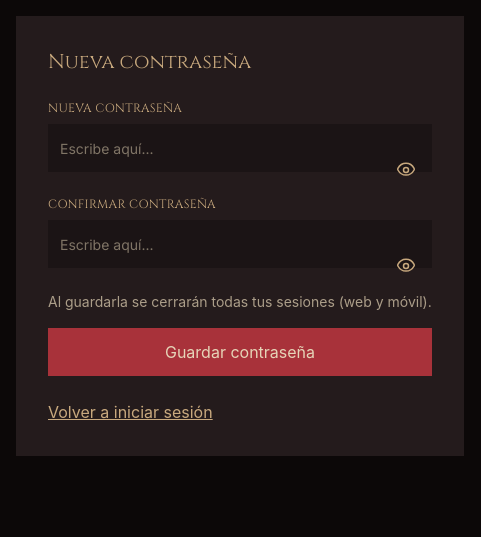
Test: reset password page › reports other failures and connection problems
Later steps or results of the test are not shown.
Type "Nueva#2026" into the password field labelled "Nueva contraseña" at point(240, 148), box [48,124,432,172]
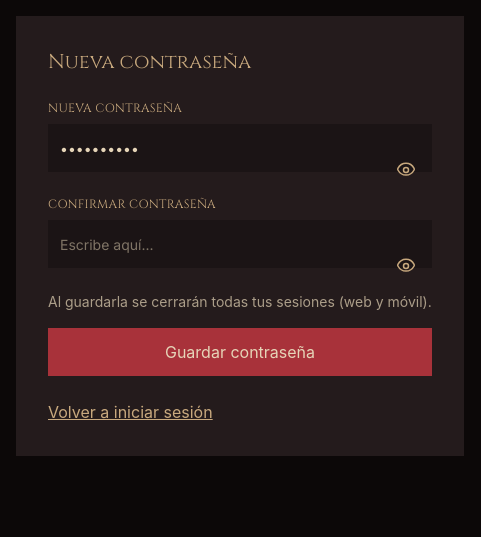
Type "Nueva#2026" into the password field labelled "Confirmar contraseña" at point(240, 244), box [48,220,432,268]
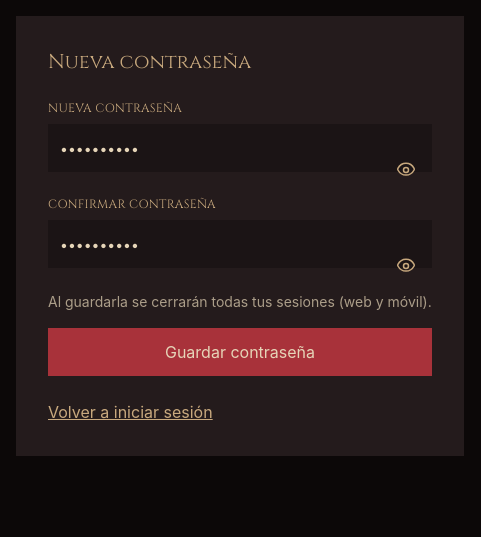
Click the button "Guardar contraseña" at point(240, 352), box [48,328,432,376]
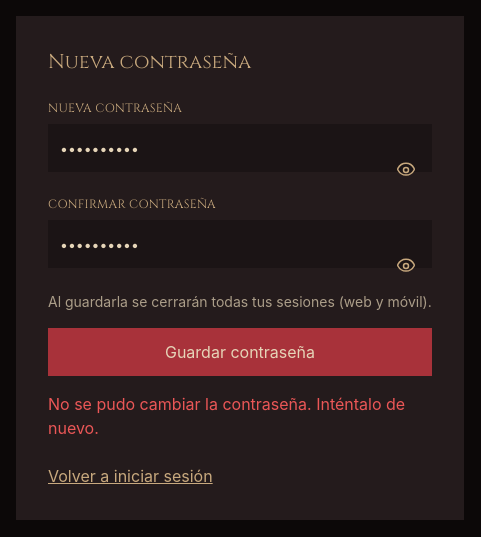
Check: the message shows "No se pudo cambiar", box [48,394,405,438]
